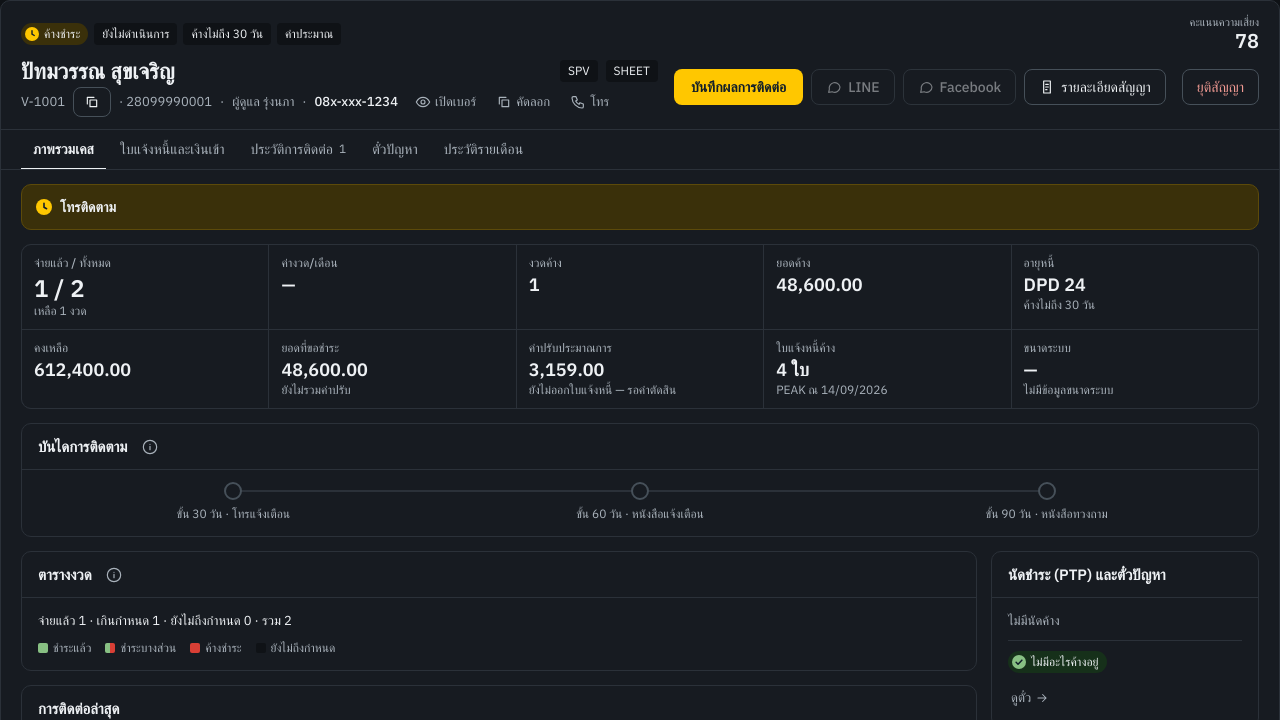
Test: the case header and tabs (design D) › explains that the displayed CASH instalment count comes from PEAK
Click the button named "ข้อมูลเพิ่มเติม" next to "ตารางงวด" at (114, 574), box top-left (100, 560), bottom-right (128, 588)
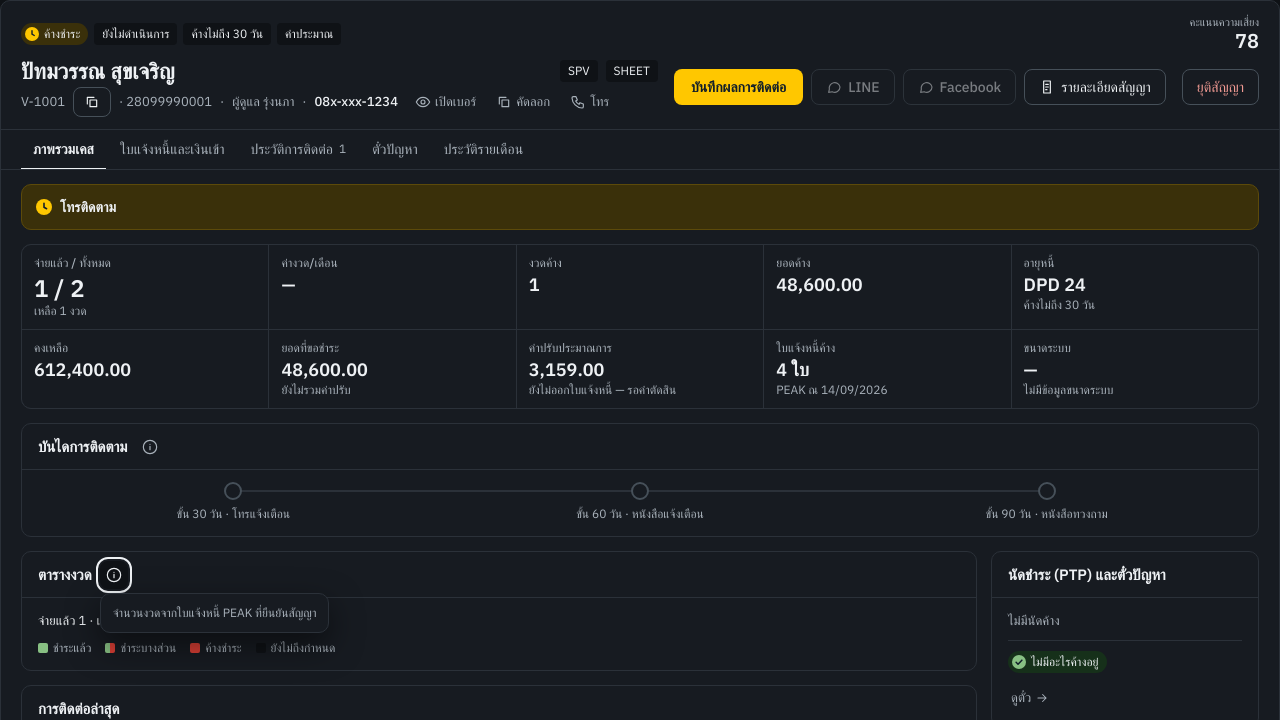
Result: the text "จำนวนงวดจากใบแจ้งหนี้ PEAK ที่ยืนยันสัญญา" is shown at top-left (100, 592), bottom-right (330, 632)
